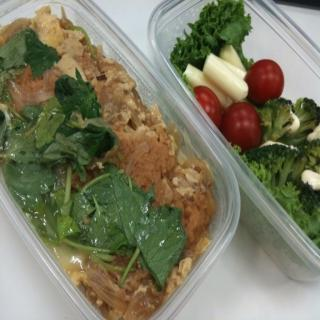tomato: (220, 100, 260, 152), (243, 54, 287, 100), (193, 83, 220, 125)
